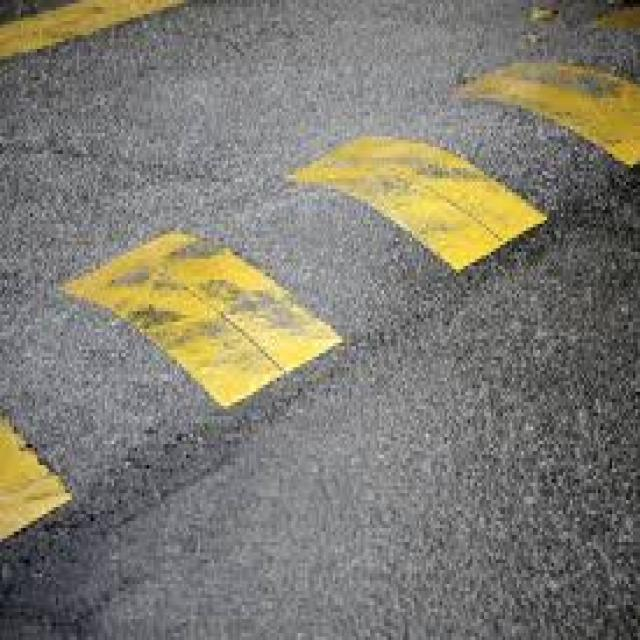speed-bump: (1, 18, 640, 556)
